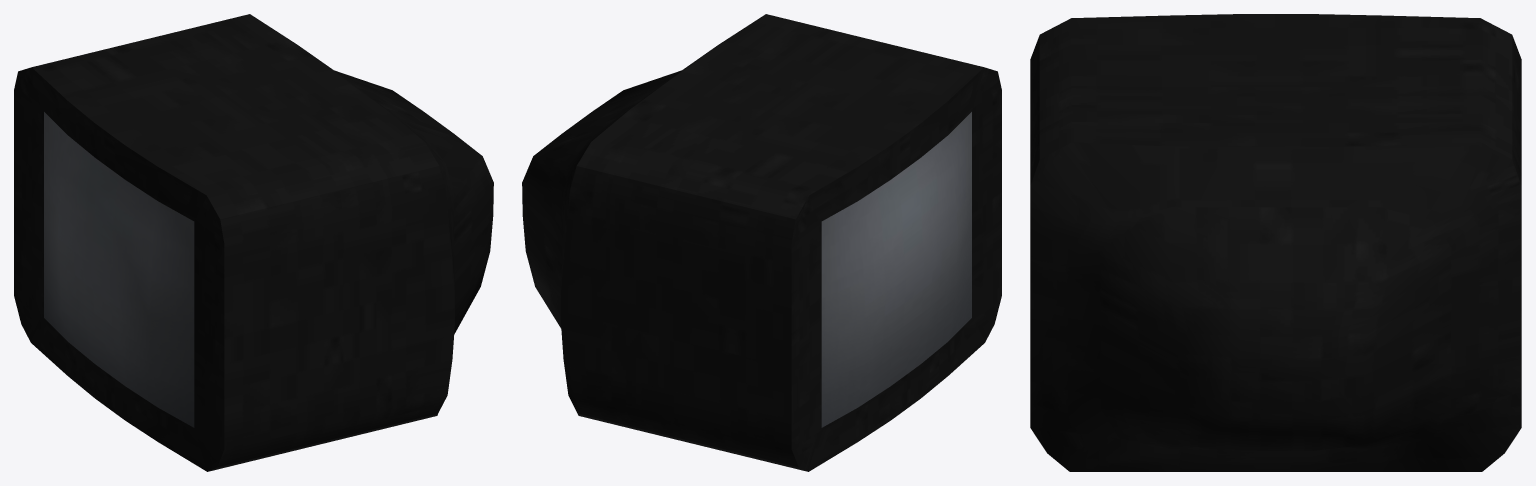
The model's file is TVUVOK 1.fbx.
3 views of the same model, side by side, from view 1: azimuth 30°, elevation 25°; view 2: azimuth 150°, elevation 25°; view 3: azimuth 270°, elevation 25° (orthographic). The views are drawn at different scales.
Visible parts, largest first — view 1: TV1:pCube1; view 2: TV1:pCube1; view 3: TV1:pCube1.
Part boxes in pixels (box(x1,y1,x2,y2)): TV1:pCube1: box(14, 14, 493, 471); TV1:pCube1: box(522, 14, 1001, 471); TV1:pCube1: box(1030, 14, 1521, 471).
Size of the model in its own units: 13.08 by 9.45 by 13.04.
Materials: 1 (1 with a texture image).
